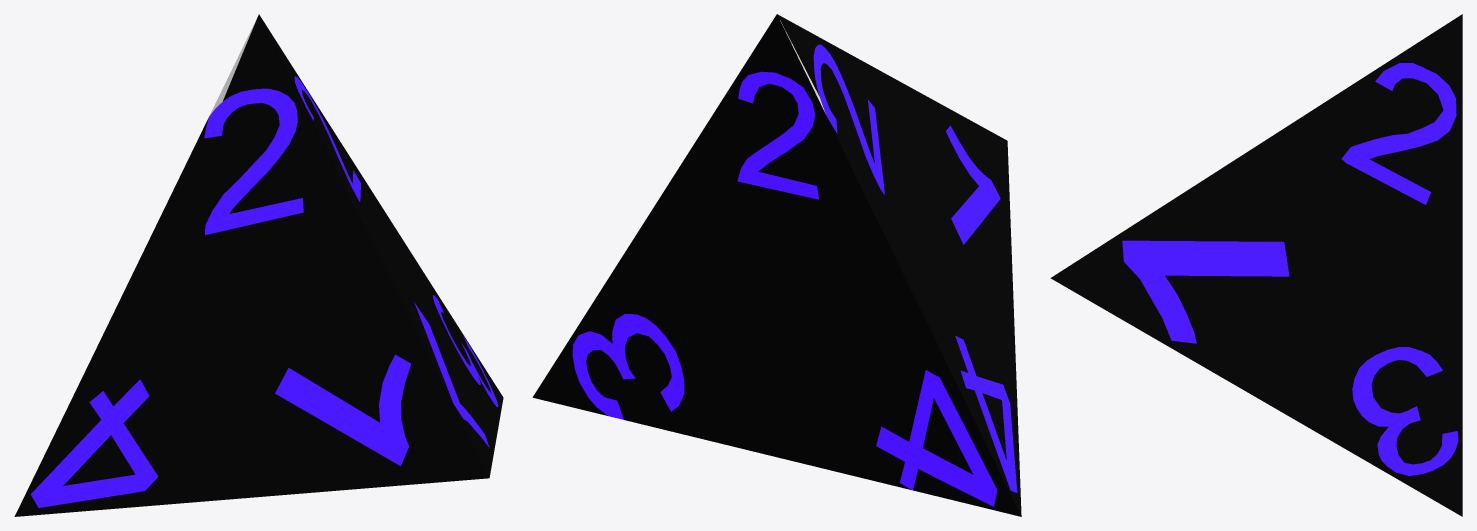
Rendered from dice4.glb.
3 views of the same model, side by side, from view 1: azimuth 30°, elevation 25°; view 2: azimuth 150°, elevation 25°; view 3: azimuth 270°, elevation 25° (orthographic). The views are drawn at different scales.
Visible parts, largest first — view 1: pPyramid1; view 2: pPyramid1; view 3: pPyramid1.
Boxes of the visible parts, <box> form: pPyramid1: <box>14,14,503,516</box>; pPyramid1: <box>532,14,1021,516</box>; pPyramid1: <box>1050,14,1462,516</box>.
Size of the model in its own units: 0.03 by 0.026 by 0.0245.
3 materials, 1 textured.
